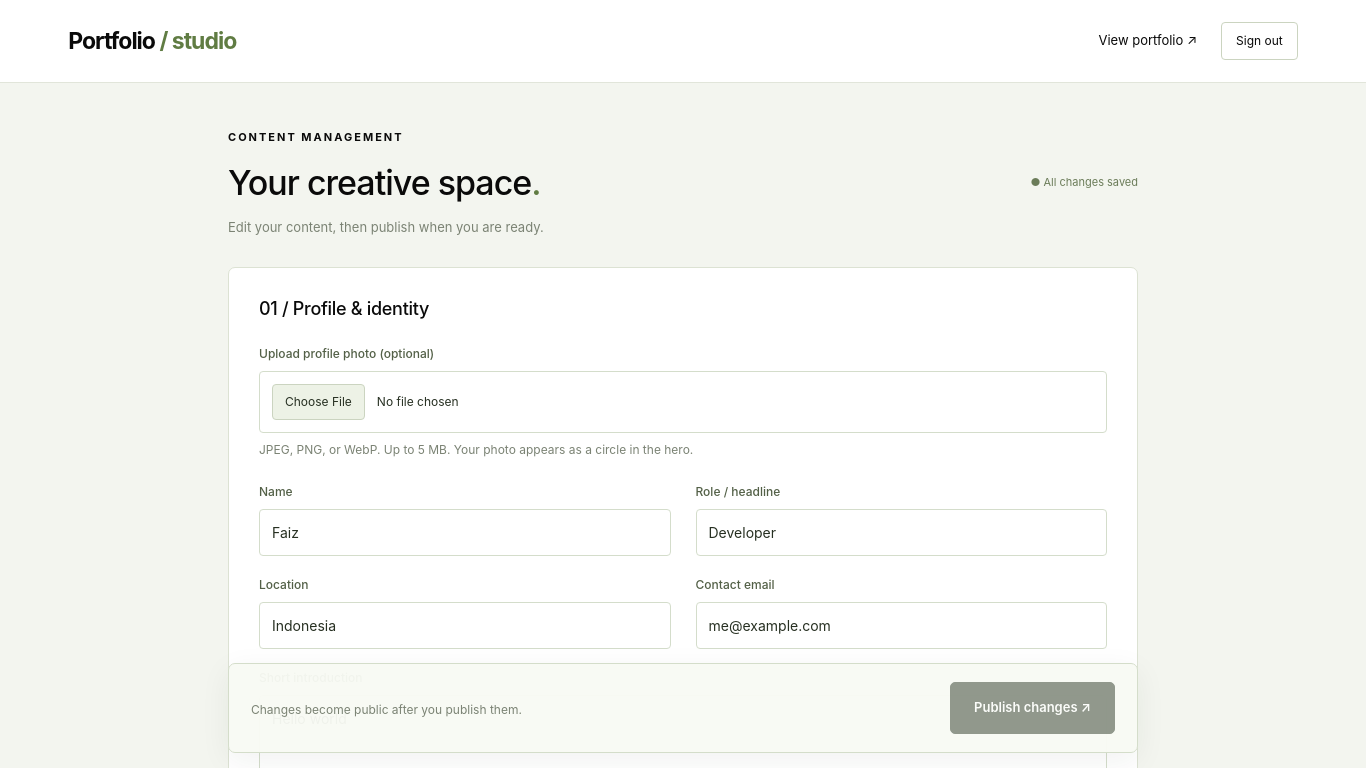
Test case: Portfolio and editor › keeps edits when a concurrent publication is rejected
Replace the text in the field labelled "Name" with "Unsaved name" at point(465, 532), box [259,509,670,556]
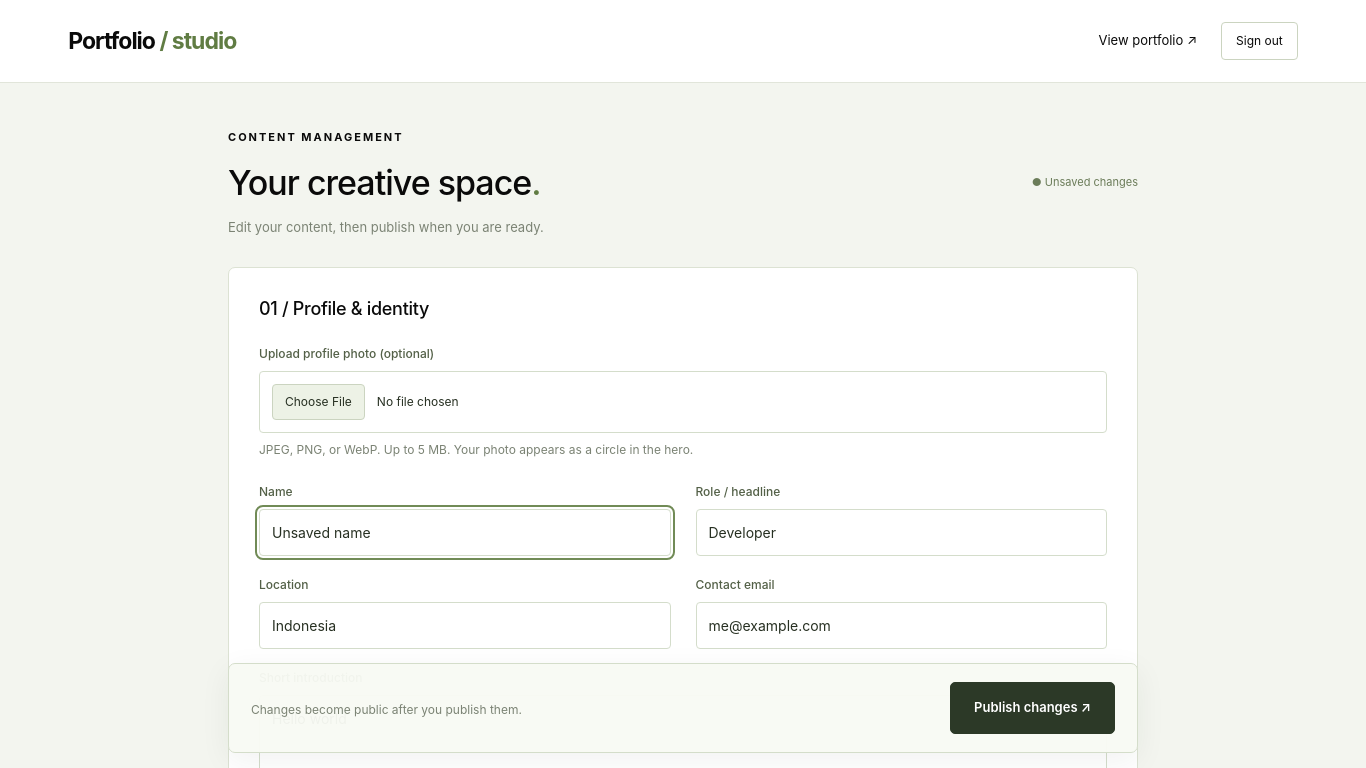
Click the button "Publish changes ↗" at point(1032, 708), box [950,682,1115,734]
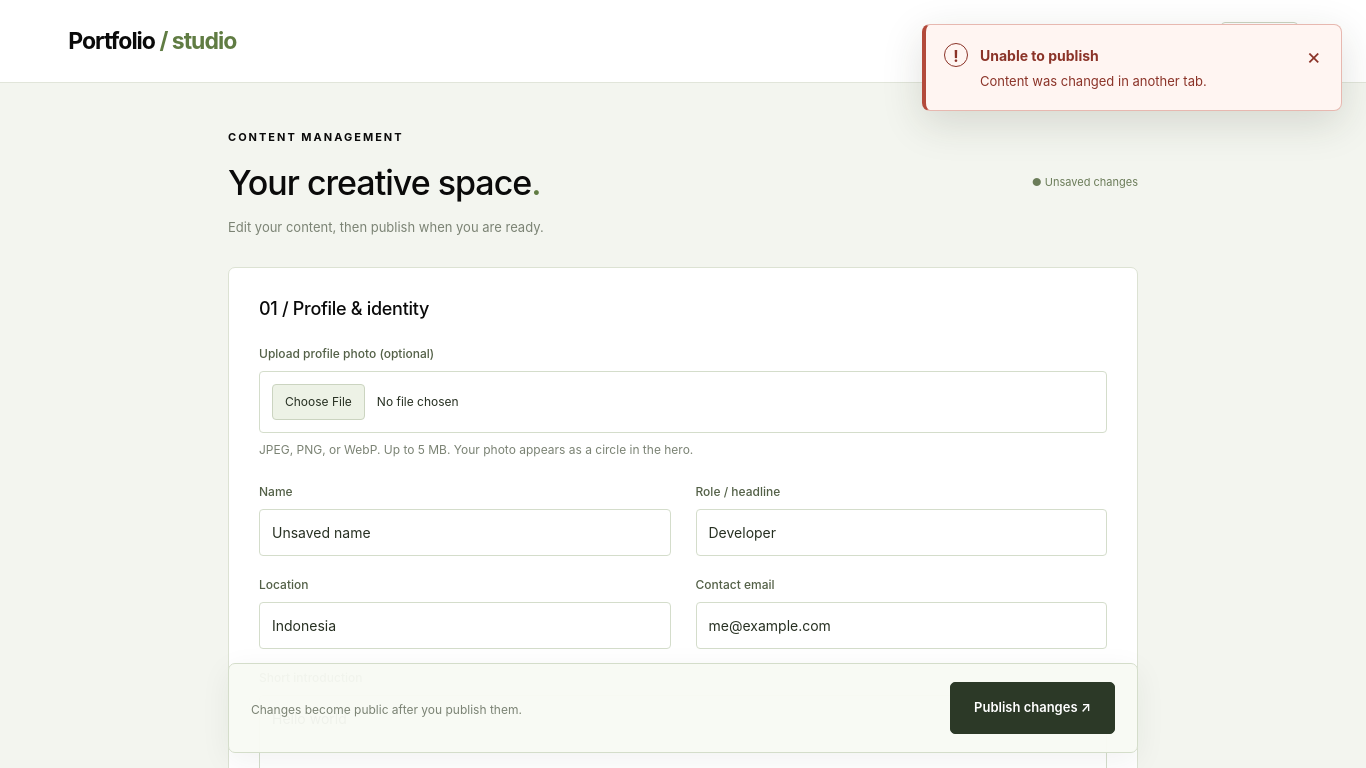
Expected: the message shows "Content was changed", [980,73,1207,89]
